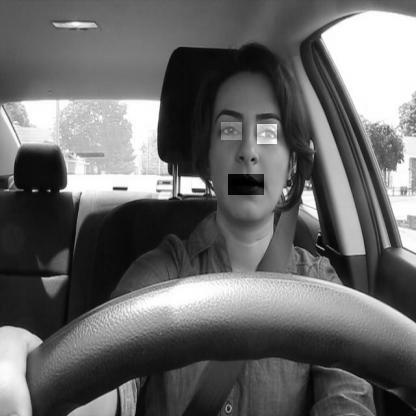seatbelt: (194, 36, 318, 416)
